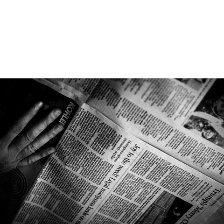news_paper: (0, 74, 223, 223), (40, 77, 224, 188)
